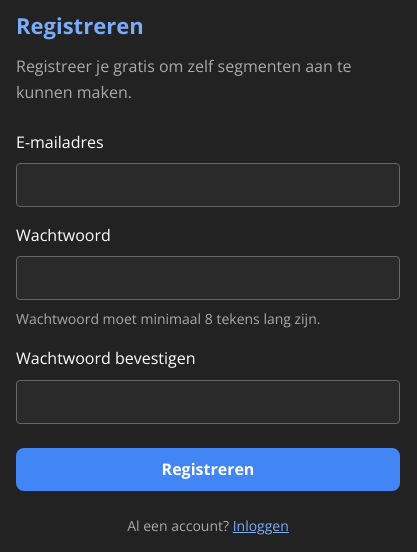
Test: SignupForm.tsx › Happy flow › submit button is disabled and shows busy text when form is submitting
The width and height of the screenshot is (417, 552).
Type "a@a.nl" into the field labelled "E-mailadres".
click(208, 185); type("a@a.nl")  # box [16, 163, 400, 207]
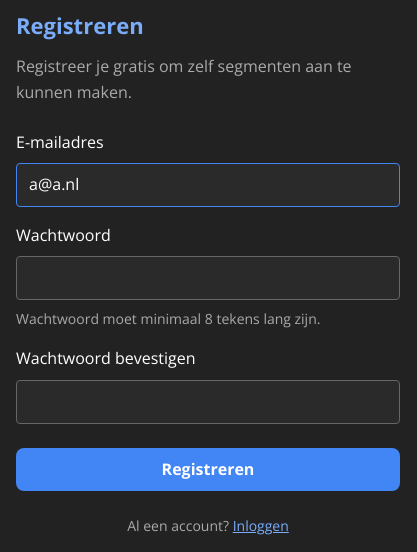
Type "password123" into the password field labelled "Wachtwoord".
click(208, 278); type("password123")  # box [16, 256, 400, 300]
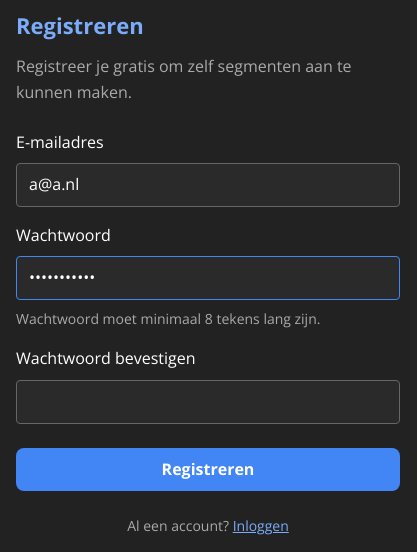
Type "password123" into the password field labelled "Wachtwoord bevestigen".
click(208, 402); type("password123")  # box [16, 380, 400, 424]
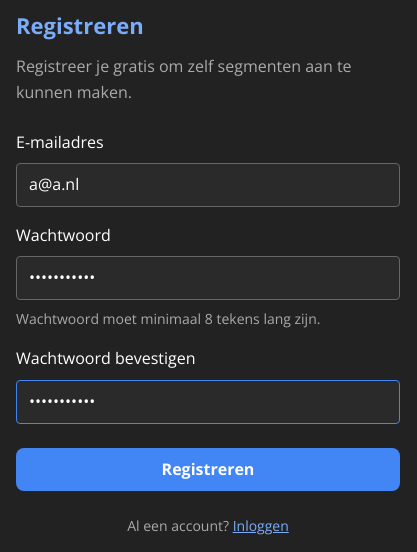
Click the button "Registreren".
click(208, 469)  # box [16, 448, 400, 491]
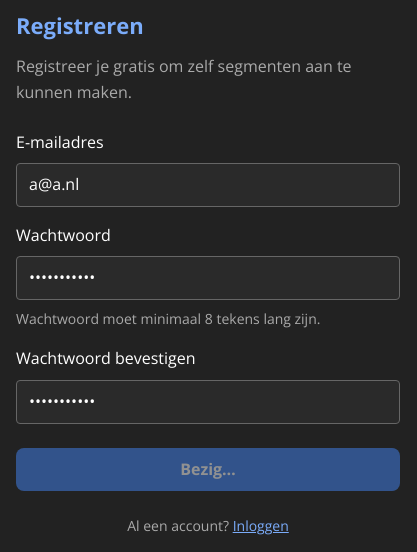
expect the button named "registreren" is disabled: met, box [16, 448, 400, 491]
expect the button named "registreren" shows "Bezig": met, box [16, 448, 400, 491]
